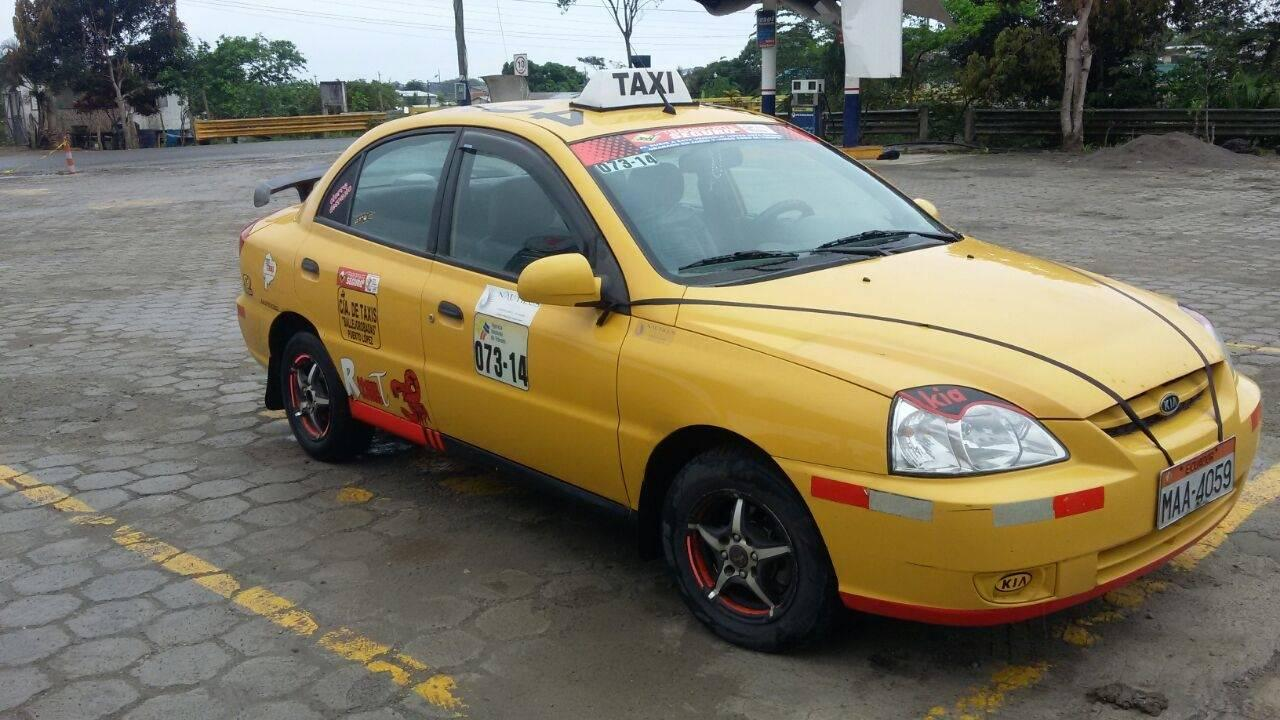taxi: (201, 72, 1265, 650)
